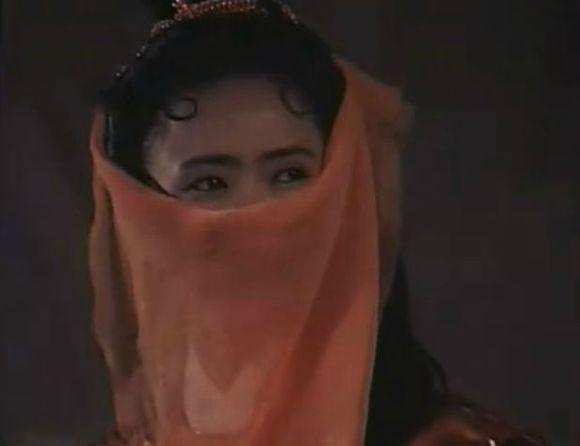OK: (167, 138, 336, 307)
